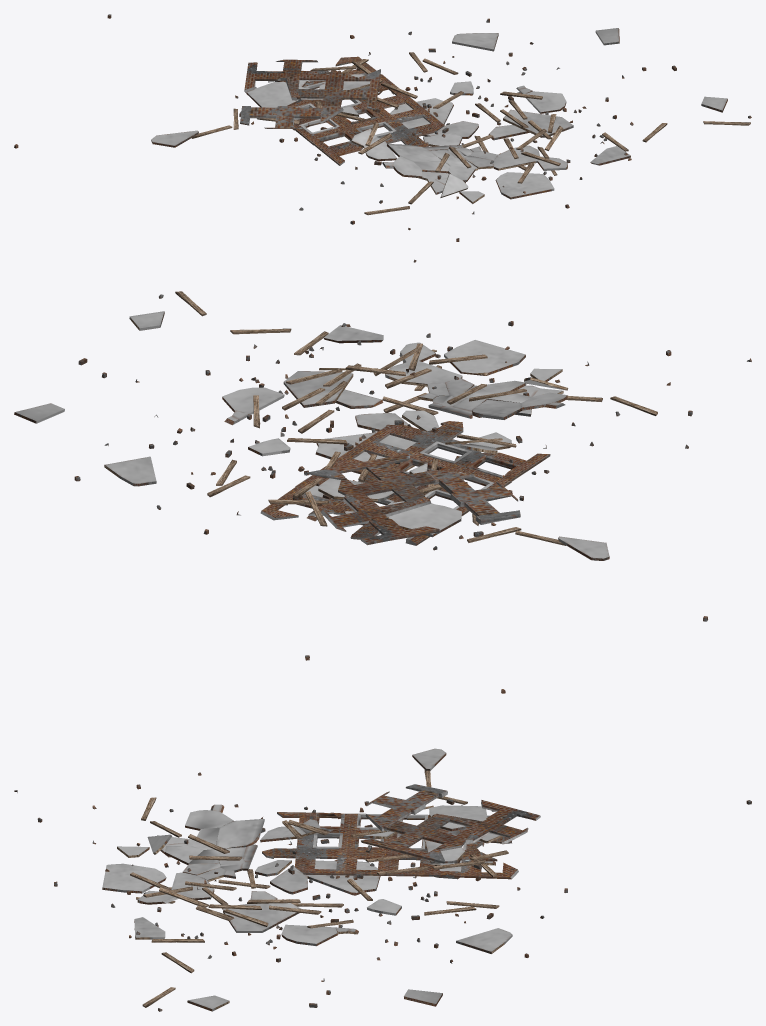
Rendered from Debris_03.fbx.
3 renders of one model, top to bottom at view 1: azimuth 30°, elevation 25°; view 2: azimuth 150°, elevation 25°; view 3: azimuth 270°, elevation 25°, orthographic. The views are drawn at different scales.
Visible parts, largest first — view 1: Debris3_LOD0_LOD0_LOD0_LOD0; view 2: Debris3_LOD0_LOD0_LOD0_LOD0; view 3: Debris3_LOD0_LOD0_LOD0_LOD0.
Part boxes in pixels (box(x1,y1,x2,y2)): Debris3_LOD0_LOD0_LOD0_LOD0: box(14, 14, 751, 262); Debris3_LOD0_LOD0_LOD0_LOD0: box(14, 291, 751, 660); Debris3_LOD0_LOD0_LOD0_LOD0: box(14, 689, 751, 1011).
Size of the model in its own units: 1211 by 37.66 by 1181.
